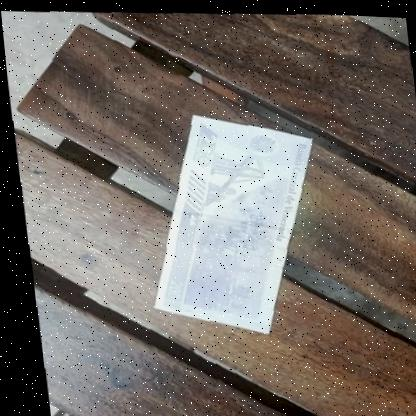two_hundred-back-vef: (128, 107, 328, 337)
